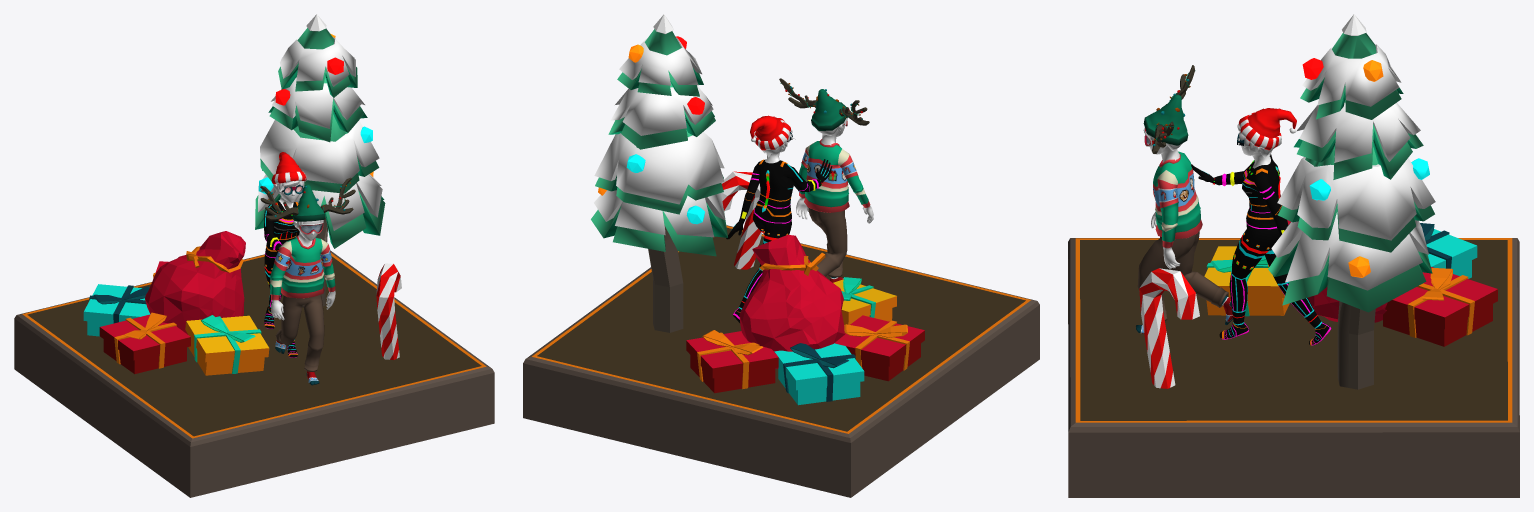
Rendered from xmas_stand.glb.
The picture shows the model from 3 angles, left to right: view 1: azimuth 30°, elevation 25°; view 2: azimuth 150°, elevation 25°; view 3: azimuth 270°, elevation 25°; orthographic projection. The views are drawn at different scales.
Parts seen in each view (by area): view 1: Cube.006, SnowTree_03, M_uBody_XmasSweater_01.001, M_lBody_BaseMesh_Mesh.000, M_Hat_Reeindeer.001, F_lBody_LedSuit.001, F_Hat_RedXmasHat.001; view 2: Cube.006, SnowTree_03, F_lBody_LedSuit.001, M_uBody_XmasSweater_01.001, M_Hat_Reeindeer.001, M_lBody_BaseMesh_Mesh.000, F_Hat_RedXmasHat.001; view 3: Cube.006, SnowTree_03, F_lBody_LedSuit.001, M_uBody_XmasSweater_01.001, M_lBody_BaseMesh_Mesh.000, M_Hat_Reeindeer.001, F_Hat_RedXmasHat.001.
Boxes of the visible parts, x1,y1,x2,y2 form: Cube.006: (14, 231, 494, 497); SnowTree_03: (255, 14, 385, 307); M_uBody_XmasSweater_01.001: (270, 235, 335, 385); M_lBody_BaseMesh_Mesh.000: (275, 294, 324, 371); M_Hat_Reeindeer.001: (260, 177, 355, 234); F_lBody_LedSuit.001: (264, 182, 301, 357); F_Hat_RedXmasHat.001: (271, 152, 306, 195); Cube.006: (523, 171, 1039, 497); SnowTree_03: (591, 14, 727, 332); F_lBody_LedSuit.001: (726, 142, 832, 322); M_uBody_XmasSweater_01.001: (796, 139, 873, 282); M_Hat_Reeindeer.001: (779, 78, 869, 135); M_lBody_BaseMesh_Mesh.000: (808, 207, 847, 277); F_Hat_RedXmasHat.001: (750, 115, 795, 157); Cube.006: (1068, 220, 1519, 497); SnowTree_03: (1268, 14, 1435, 389); F_lBody_LedSuit.001: (1191, 142, 1331, 345); M_uBody_XmasSweater_01.001: (1136, 151, 1232, 333); M_lBody_BaseMesh_Mesh.000: (1137, 231, 1228, 320); M_Hat_Reeindeer.001: (1143, 65, 1195, 153); F_Hat_RedXmasHat.001: (1237, 108, 1296, 157).
Size of what is drawn, in the model's own units: 4.46 by 4.82 by 4.46.
Materials: 6 (6 with a texture image).
